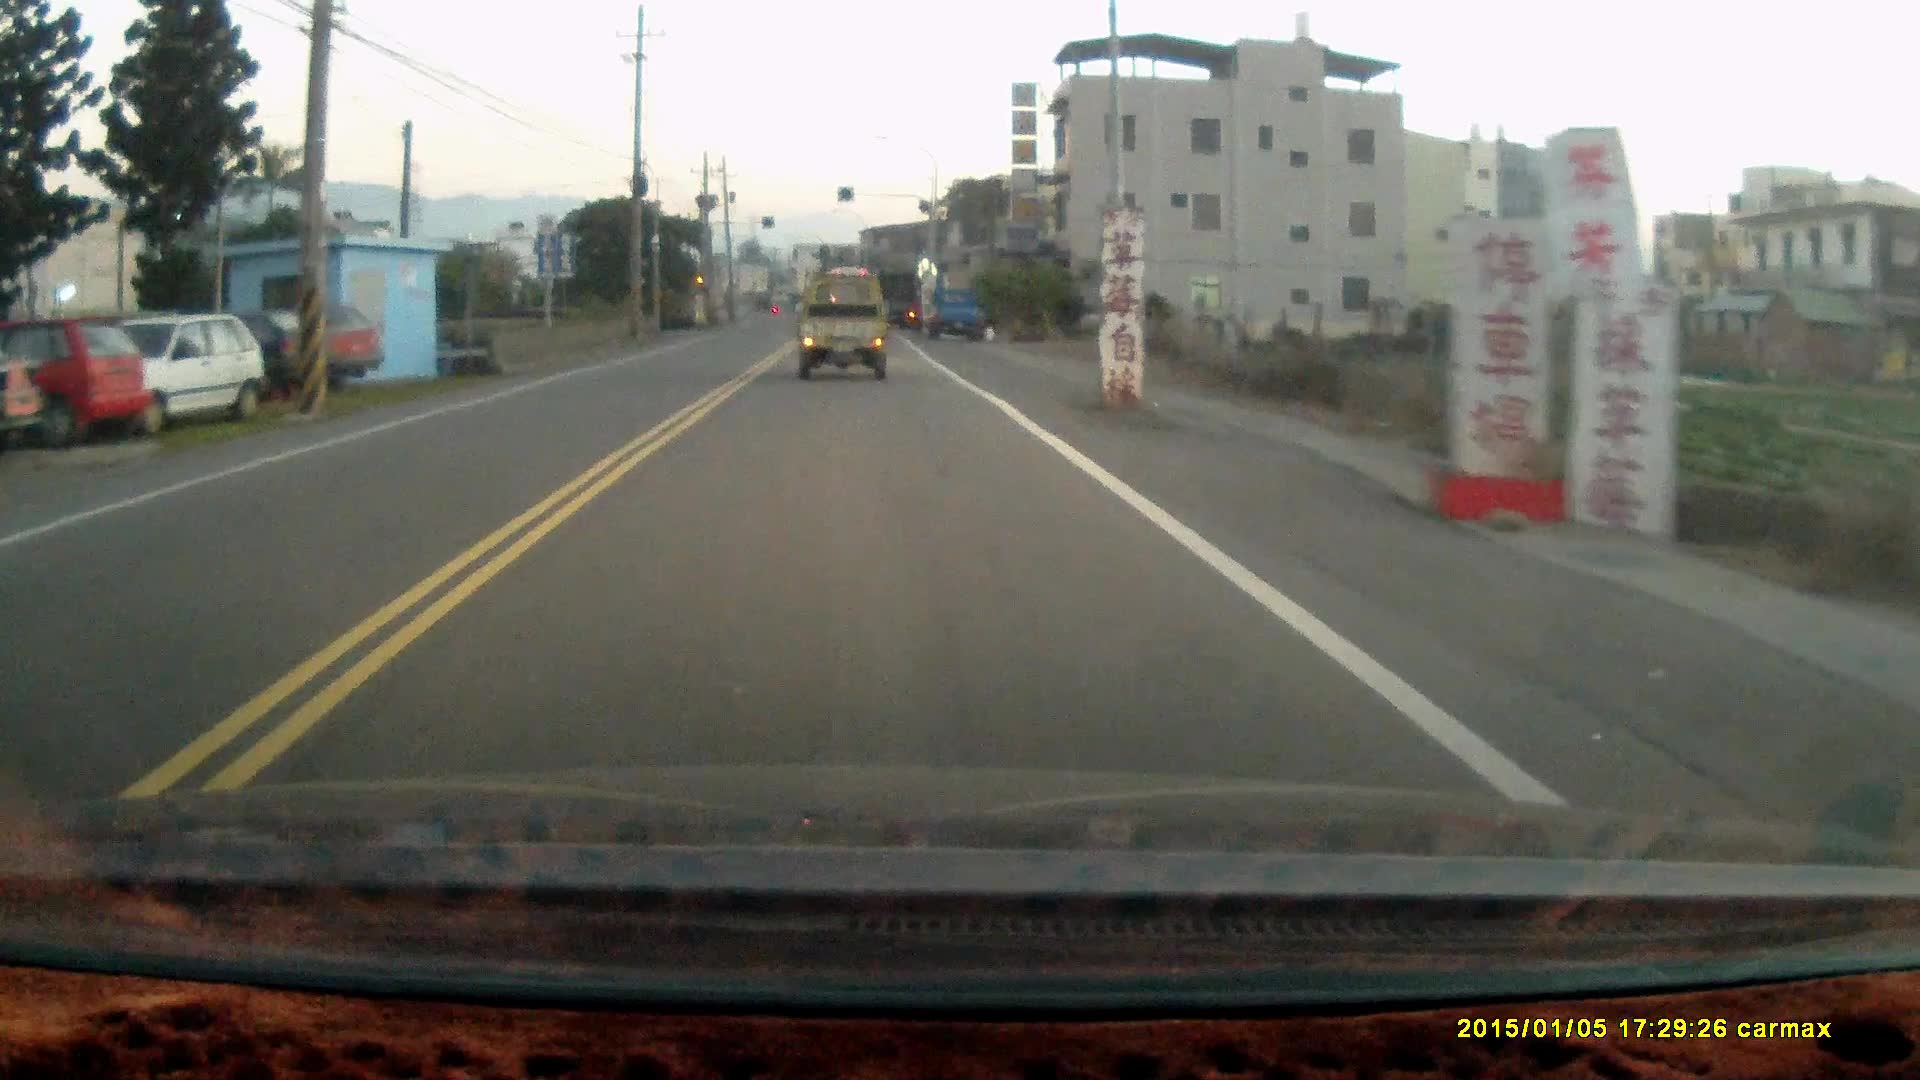vehicle: (62, 314, 262, 422), (1, 318, 175, 438), (220, 301, 392, 390), (796, 269, 895, 385), (922, 286, 992, 343)
